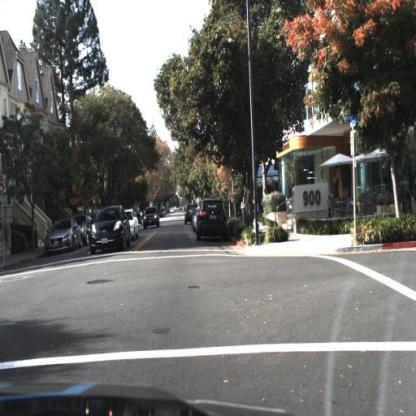car: (89, 206, 129, 253), (195, 197, 228, 246), (46, 217, 84, 252), (77, 211, 93, 251), (143, 205, 161, 233), (142, 206, 161, 232), (182, 201, 194, 228), (129, 208, 139, 240), (184, 204, 198, 225)
pedestrian: (241, 192, 249, 221)
